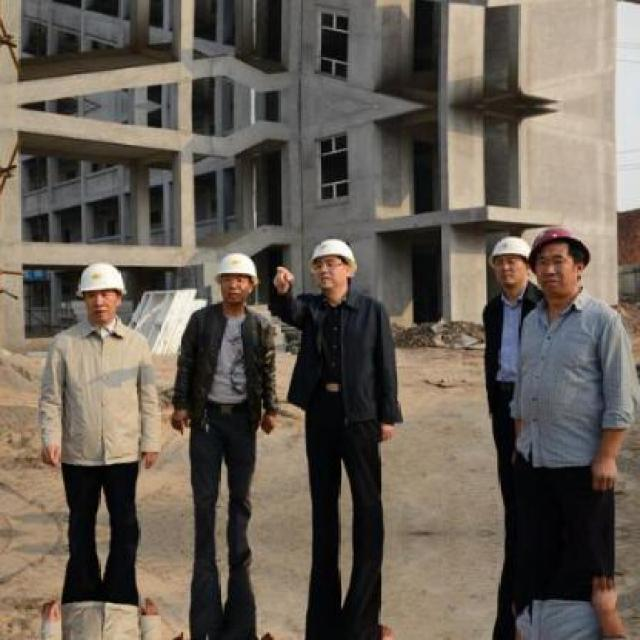helmet: (532, 225, 592, 301), (72, 257, 128, 324), (307, 230, 358, 296), (490, 228, 532, 296), (212, 247, 259, 307)
